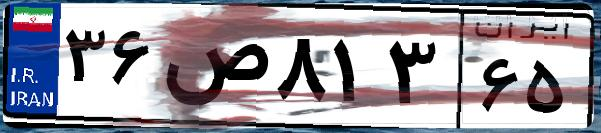1: (330, 28, 385, 110)
3: (385, 28, 445, 110), (57, 26, 110, 100)
5: (525, 38, 570, 115)
6: (475, 38, 525, 113), (110, 28, 158, 98)
8: (270, 28, 330, 110)
ص: (158, 20, 270, 120)
